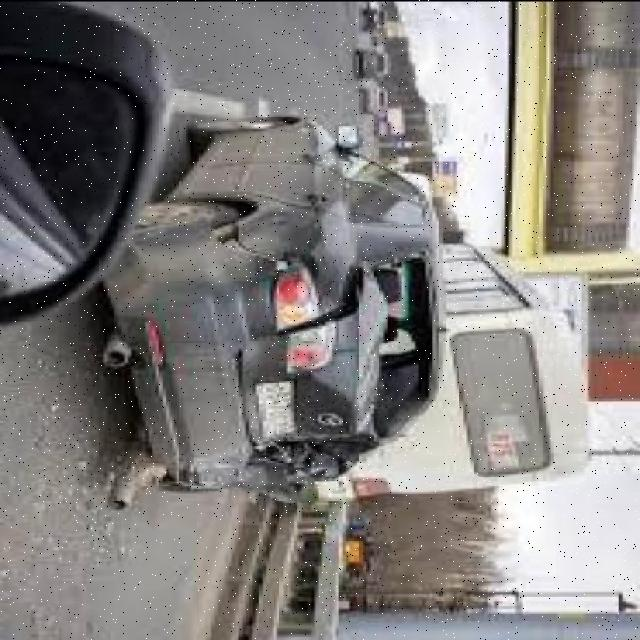damage: (177, 259, 390, 501), (106, 210, 321, 287)
